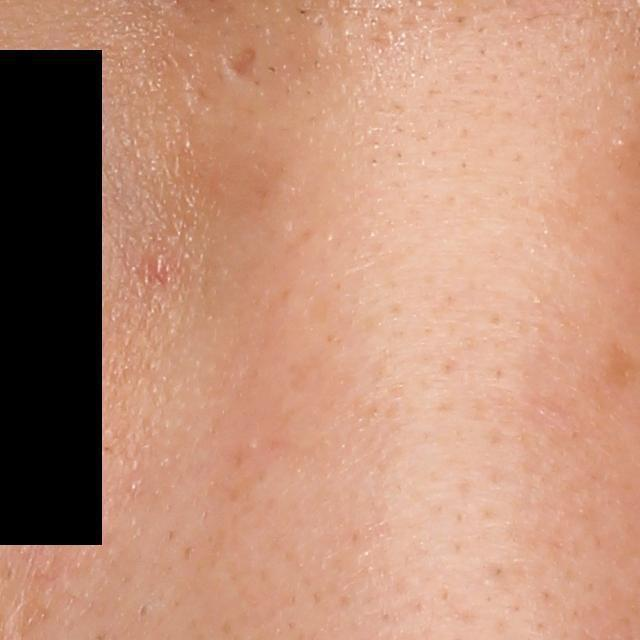atrophic_scar: (223, 45, 258, 82)
